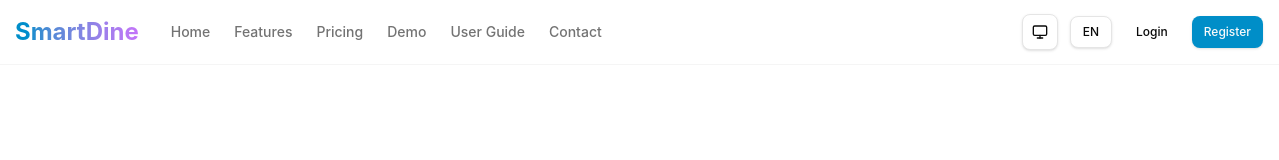
Scenario: Header Component › Language Selector › should toggle language when clicked
The width and height of the screenshot is (1279, 160).
What coordinates should you click on to do the following:
click the button "EN"
I would click on:
 (1091, 32)
Its box is [1070,16,1112,48].
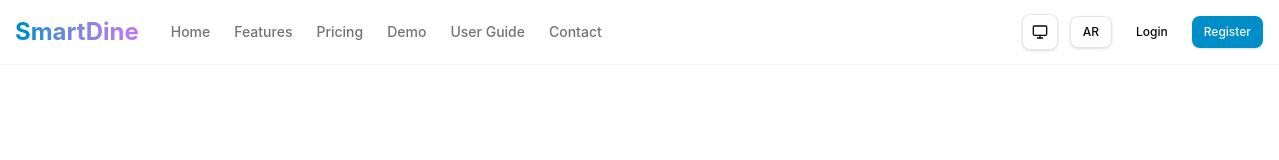
Check: the button "AR" is shown, box [1070,16,1112,48]
